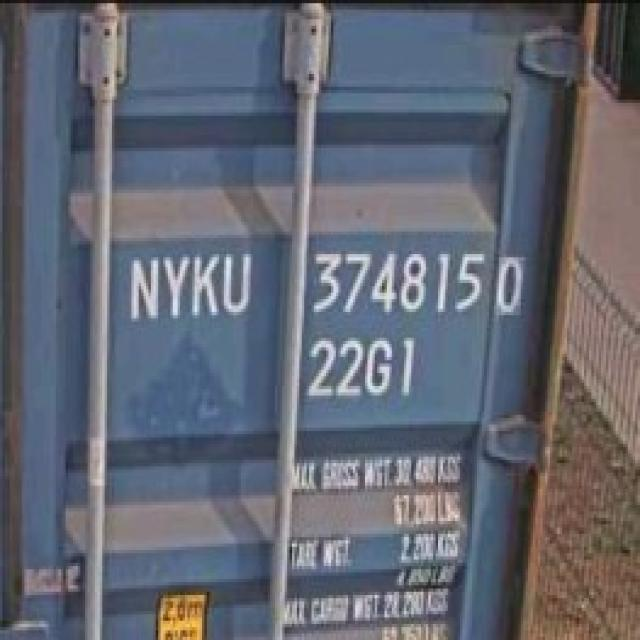dv: (490, 250, 529, 319)
owner: (127, 250, 255, 325)
serial: (312, 245, 486, 324)
size: (307, 328, 419, 407)
